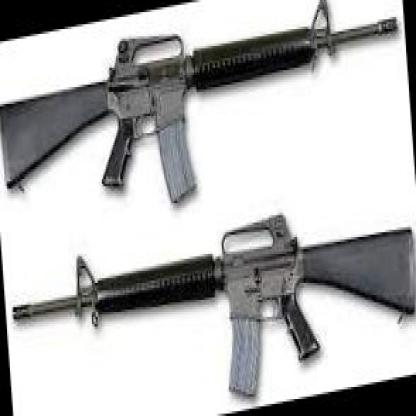rifle: (8, 176, 415, 416), (0, 0, 408, 232)
